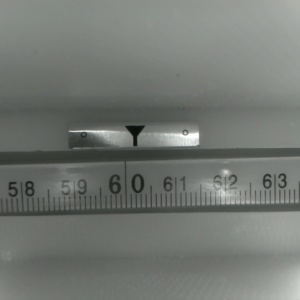0: (130, 173, 144, 193)
1: (179, 176, 185, 191)
2: (226, 174, 237, 189)
3: (277, 173, 287, 188)
5: (7, 181, 17, 197), (62, 180, 72, 196)
6: (108, 173, 122, 194), (212, 174, 222, 190), (162, 176, 172, 191), (261, 173, 271, 188)
8: (23, 180, 34, 196)
9: (77, 179, 87, 195)
finger: (122, 125, 146, 147)
